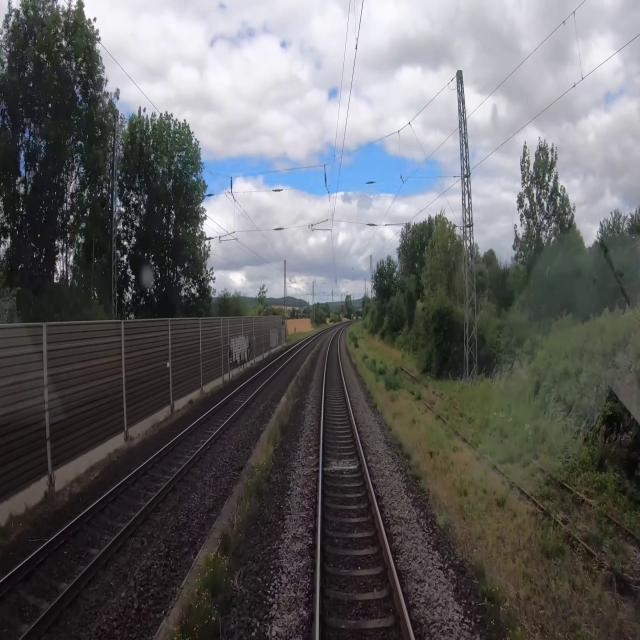Plant: (346, 322, 639, 639), (166, 355, 312, 639)
